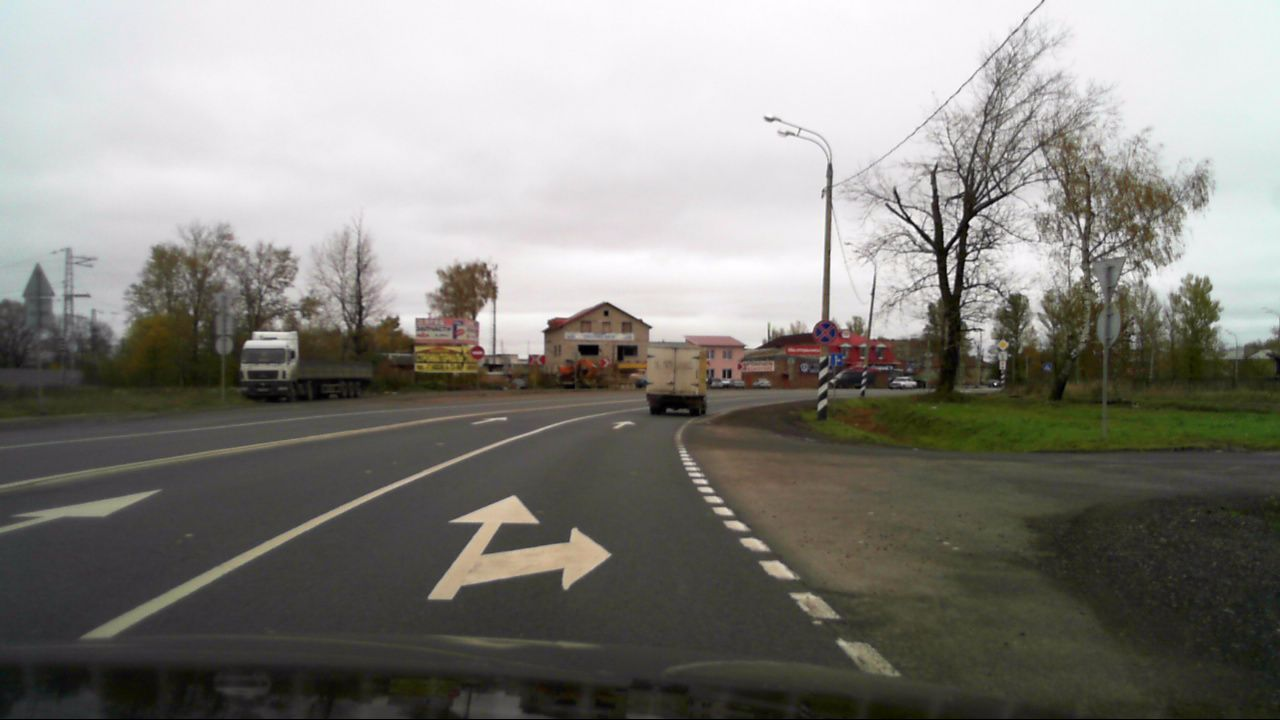No Parking: (812, 319, 837, 345)
